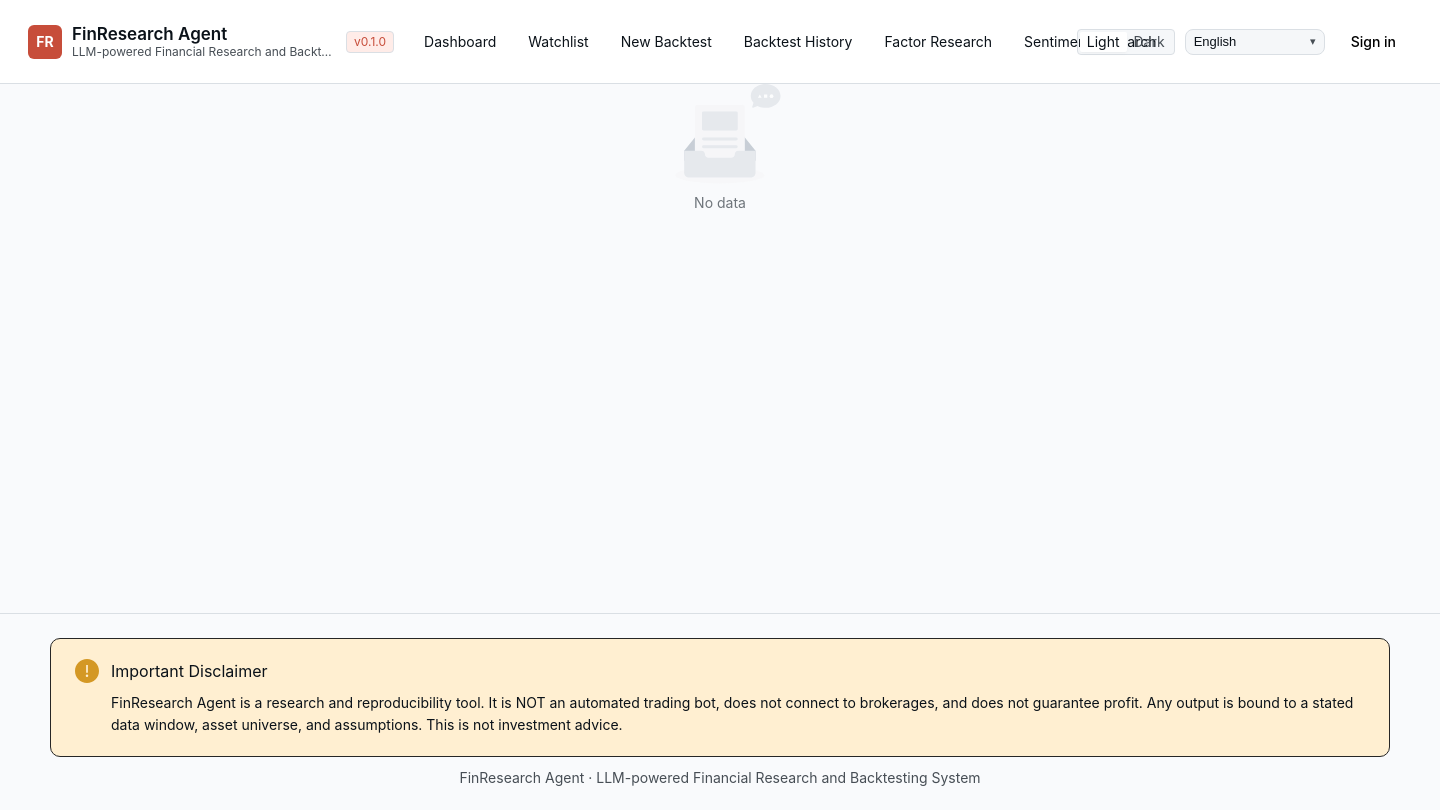
Test: Ant Design locale sync › antd Empty default description follows the i18n language (no reload)
Click the button "English ▾": (1255, 42) [1185,28,1325,54]
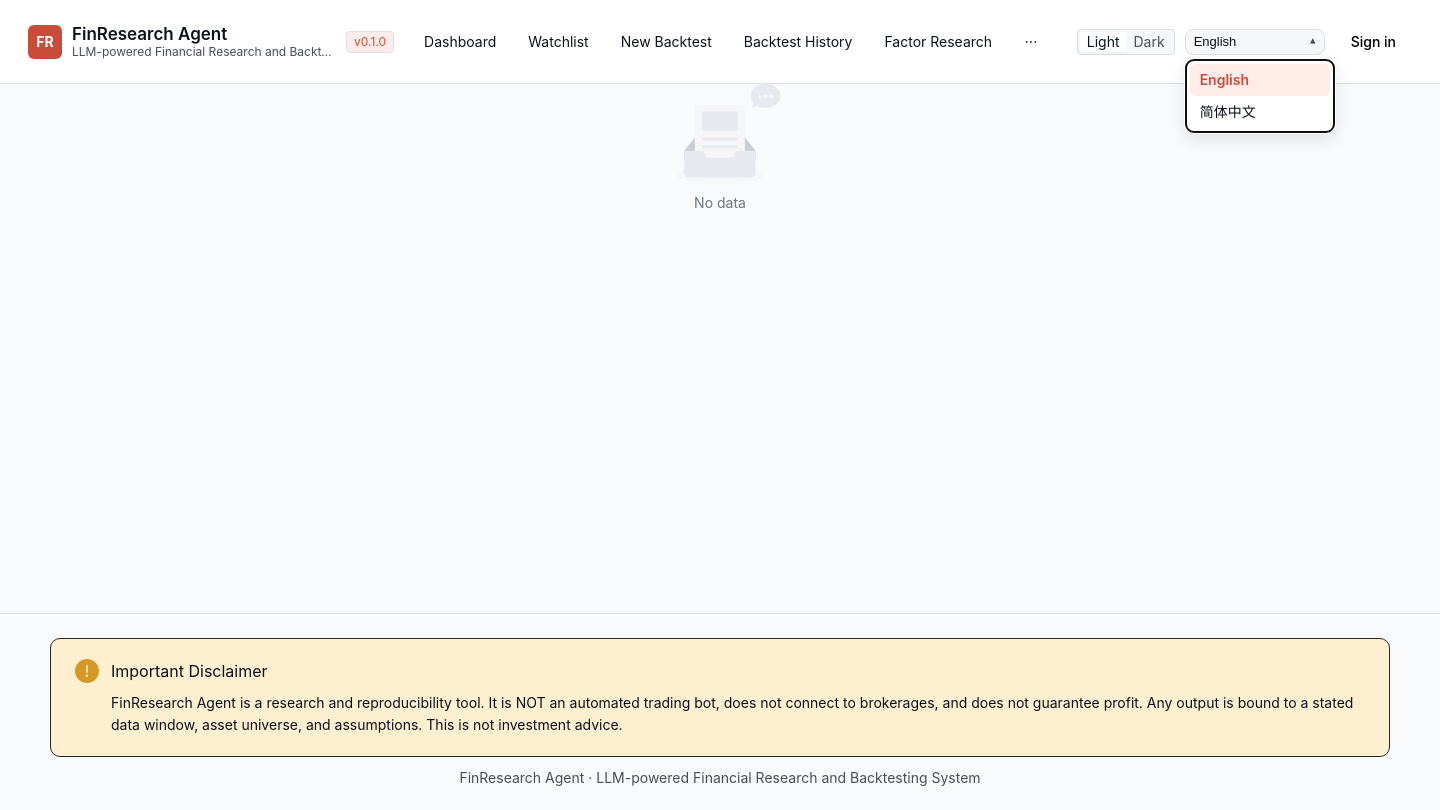
Click the option "简体中文": (1228, 111) [1200,102,1256,120]
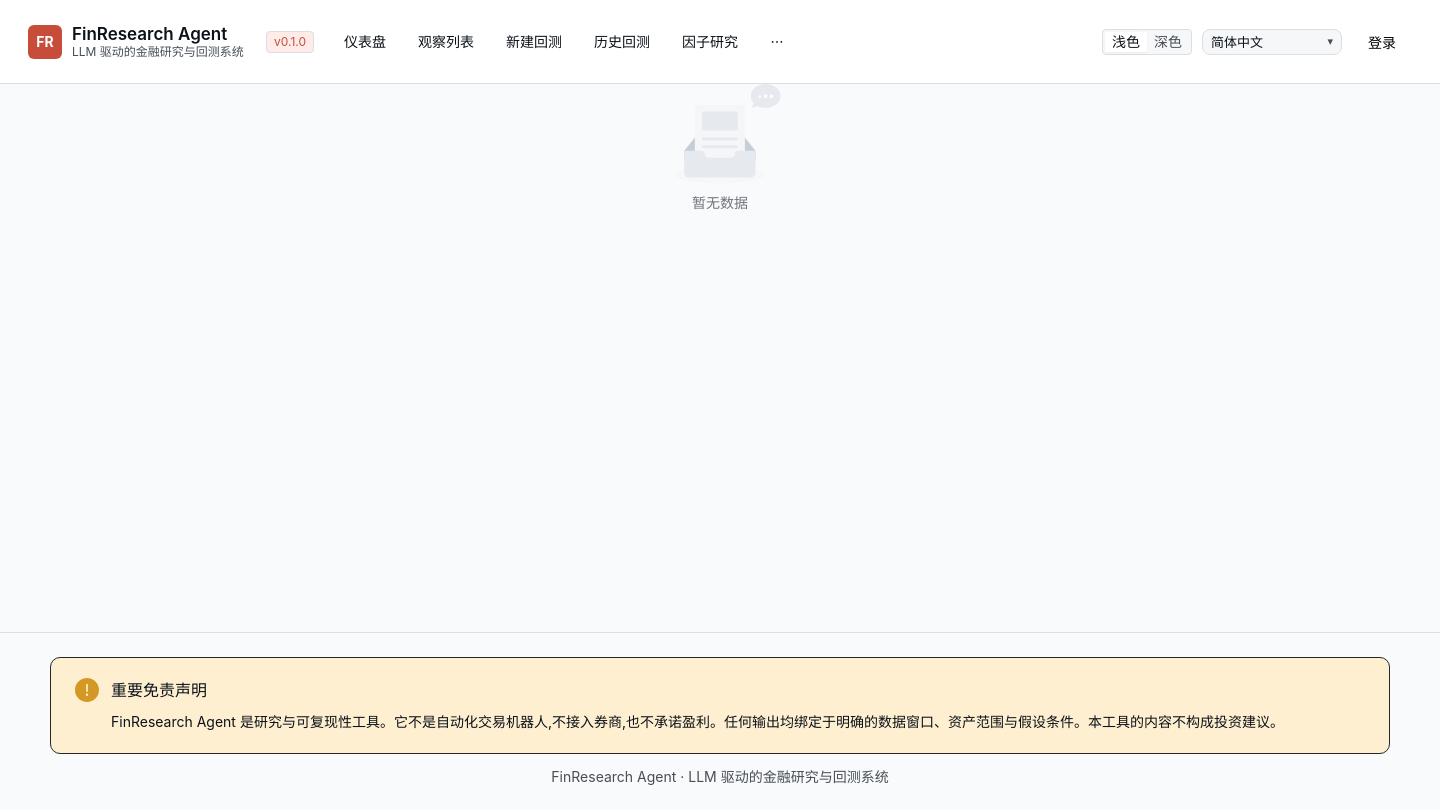
Now the text "暂无数据" is shown, box [692,194,748,211]
